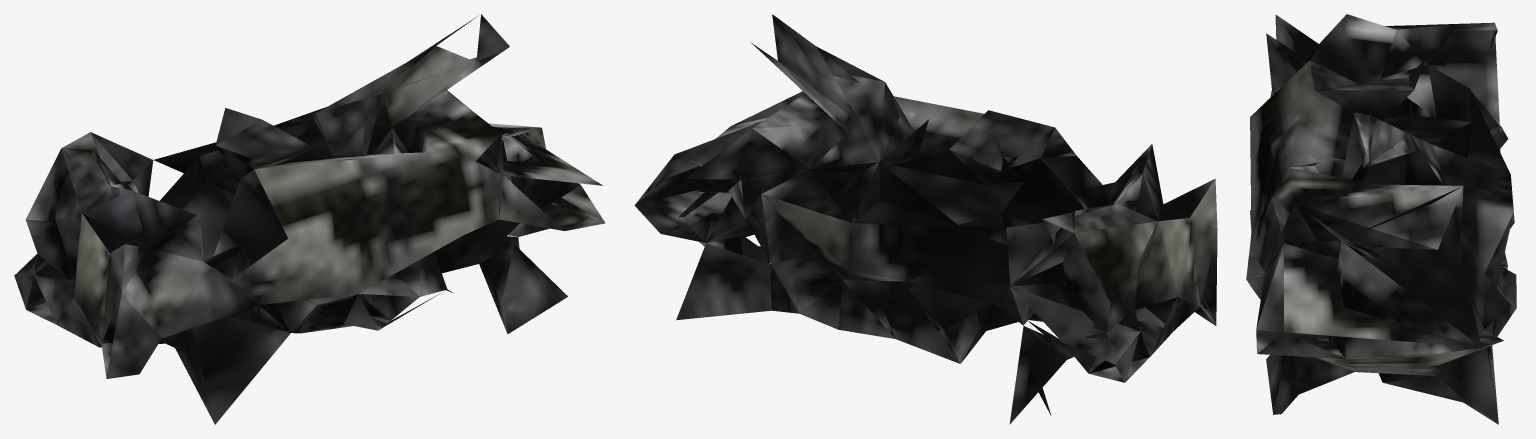
Rendered from factory_1553196644_lod1.glb.
3 renders of one model, left to right at view 1: azimuth 30°, elevation 25°; view 2: azimuth 150°, elevation 25°; view 3: azimuth 270°, elevation 25°, orthographic. The views are drawn at different scales.
Size of the model in its own units: 15.82 by 9.18 by 7.09.
1 material, 1 textured.
